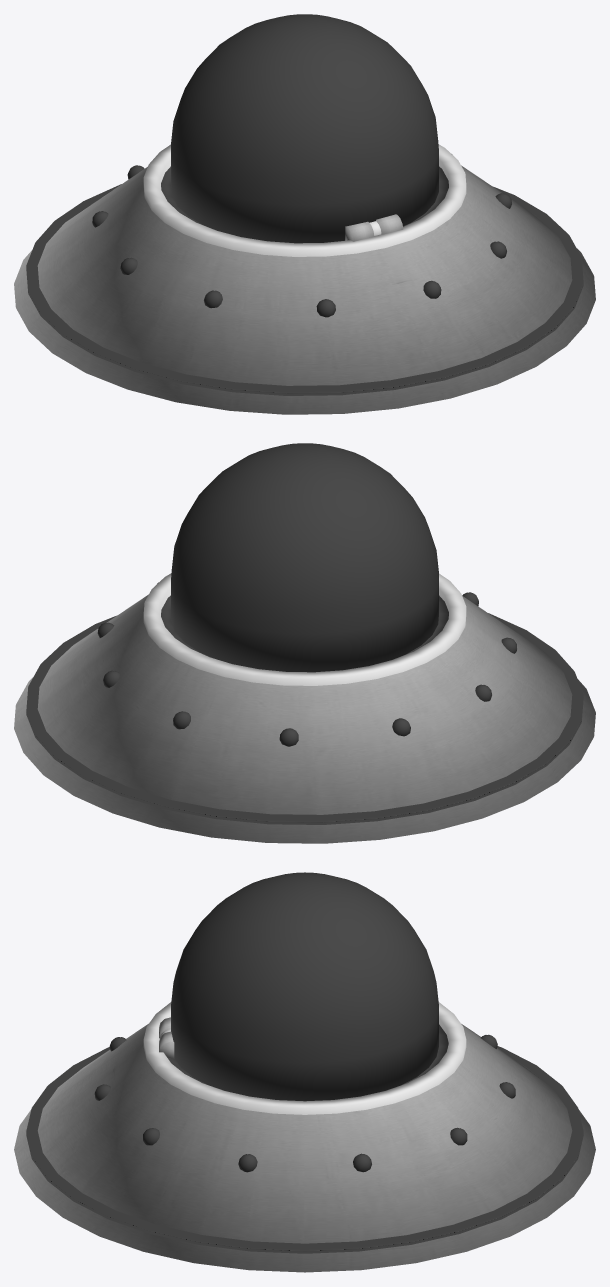
File: ship.glb
3 renders of one model, top to bottom at view 1: azimuth 30°, elevation 25°; view 2: azimuth 150°, elevation 25°; view 3: azimuth 270°, elevation 25°, orthographic.
Visible parts, largest first — view 1: Cylinder, Sphere, Cylinder.001, Sphere.002, Cylinder.002; view 2: Cylinder, Sphere, Cylinder.001, Sphere.002; view 3: Cylinder, Sphere, Cylinder.001, Sphere.002.
Boxes of the visible parts, x1,y1,x2,y2 form: Cylinder: (14,144,595,414); Sphere: (171,14,438,243); Cylinder.001: (26,184,583,395); Sphere.002: (92,154,511,317); Cylinder.002: (345,214,403,241); Cylinder: (14,573,595,843); Sphere: (171,443,438,672); Cylinder.001: (26,613,583,824); Sphere.002: (97,582,516,746); Cylinder: (14,1002,595,1272); Sphere: (171,872,438,1101); Cylinder.001: (26,1046,583,1253); Sphere.002: (94,1034,515,1172).
Size of the model in its own units: 7.68 by 4.04 by 7.68.
6 materials, 1 textured.
